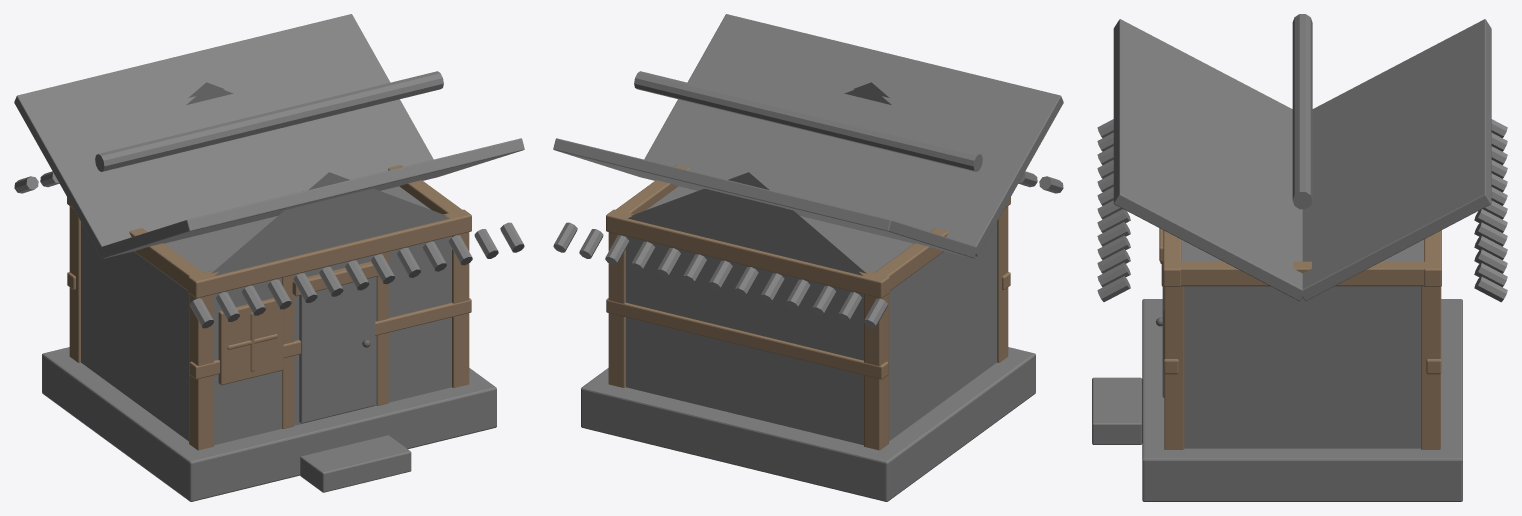
The model's file is hut-town.glb.
3 views of the same model, side by side, from view 1: azimuth 30°, elevation 25°; view 2: azimuth 150°, elevation 25°; view 3: azimuth 270°, elevation 25° (orthographic). The views are drawn at different scales.
Parts seen in each view (by area): view 1: roof.001, walls, found, door, gable, roof, ridge, plate, step, winframe, post, post.002 (+8 smaller); view 2: roof, walls, found, gable.002, roof.001, ridge, plate.001, rail.001, post.001, post.003, post, plateS (+2 smaller); view 3: walls, roof, roof.001, found, ridge, plateS.001, step, post.002, post.003, plate, plate.001, eavetile.012 (+1 smaller).
Boxes of the visible parts, x1,y1,x2,y2 form: roof.001: (14, 14, 433, 256); walls: (81, 186, 451, 445); found: (42, 347, 496, 501); door: (299, 277, 375, 423); gable: (215, 174, 449, 275); roof: (101, 138, 524, 258); ridge: (95, 71, 443, 171); plate: (188, 209, 471, 298); step: (300, 435, 411, 492); winframe: (218, 298, 283, 385); post: (189, 293, 213, 450); post.002: (452, 232, 469, 387); roof: (644, 14, 1063, 256); walls: (626, 186, 996, 445); found: (581, 347, 1035, 501); gable.002: (628, 174, 862, 275); roof.001: (553, 138, 976, 258); ridge: (634, 71, 982, 171); plate.001: (606, 209, 889, 298); rail.001: (606, 298, 888, 379); post.001: (864, 293, 888, 450); post.003: (608, 232, 625, 387); post: (997, 206, 1008, 362); plateS: (869, 228, 948, 290); walls: (1181, 239, 1423, 448); roof: (1113, 19, 1304, 301); roof.001: (1302, 19, 1491, 301); found: (1142, 299, 1462, 501); ridge: (1292, 14, 1312, 209); plateS.001: (1180, 261, 1425, 286); step: (1092, 377, 1142, 444); post.002: (1164, 286, 1184, 449); post.003: (1421, 286, 1440, 449); plate: (1163, 230, 1181, 286); plate.001: (1424, 230, 1441, 286); eavetile.012: (1097, 276, 1130, 301).
Size of the model in its own units: 4.2 by 3.52 by 4.15.
9 materials, 6 textured.
